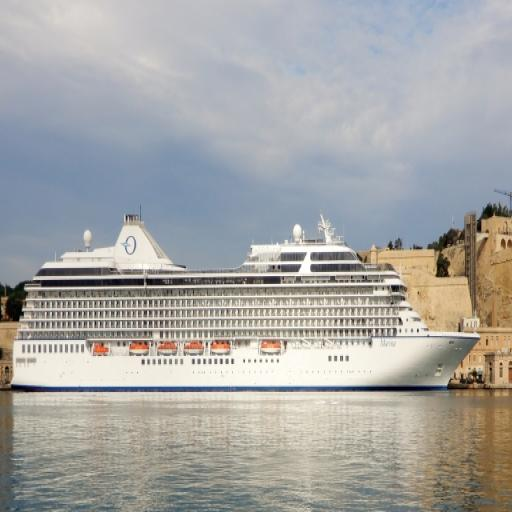cruises: (7, 199, 483, 403)
